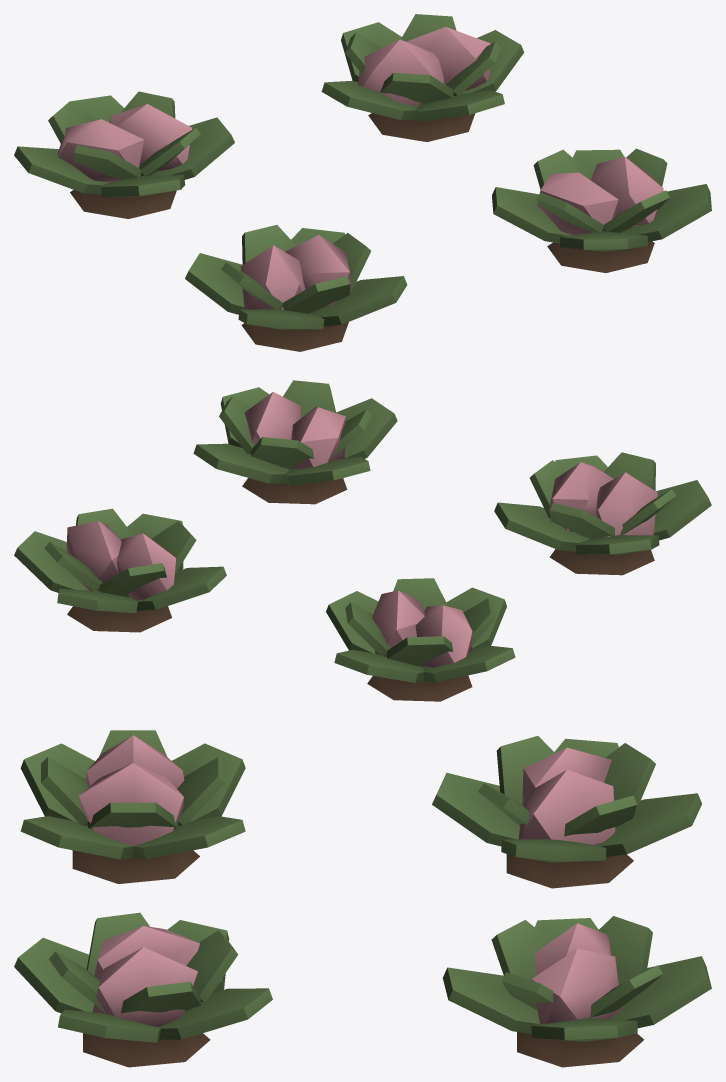
The model's file is crop_cabbage_s3.glb.
The picture shows the model from 3 angles, top to bottom: view 1: azimuth 30°, elevation 25°; view 2: azimuth 150°, elevation 25°; view 3: azimuth 270°, elevation 25°; orthographic projection. The views are drawn at different scales.
Visible parts, largest first — view 1: crop_cabbage_s3; view 2: crop_cabbage_s3; view 3: crop_cabbage_s3.
Boxes of the visible parts, x1,y1,x2,y2 form: crop_cabbage_s3: [14, 14, 711, 351]; crop_cabbage_s3: [14, 380, 711, 701]; crop_cabbage_s3: [14, 730, 711, 1067].
Bounding box in the file's own units: 1.34 × 0.2306 × 1.35.
